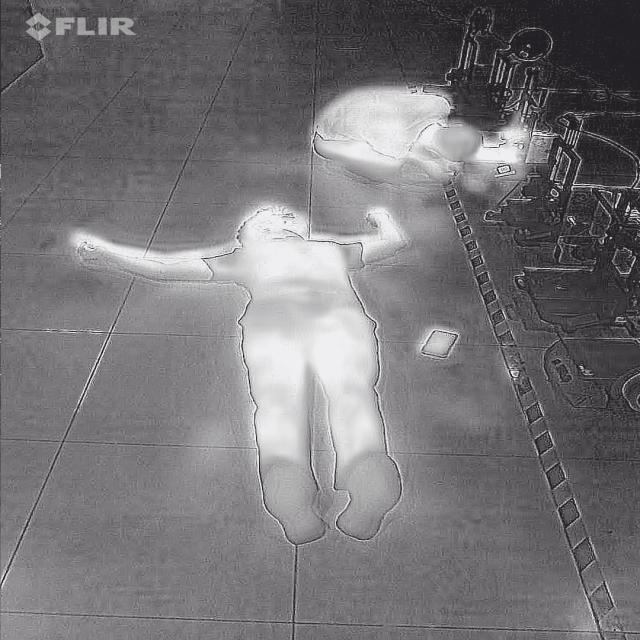Victim: (61, 190, 413, 553), (295, 76, 493, 191)
